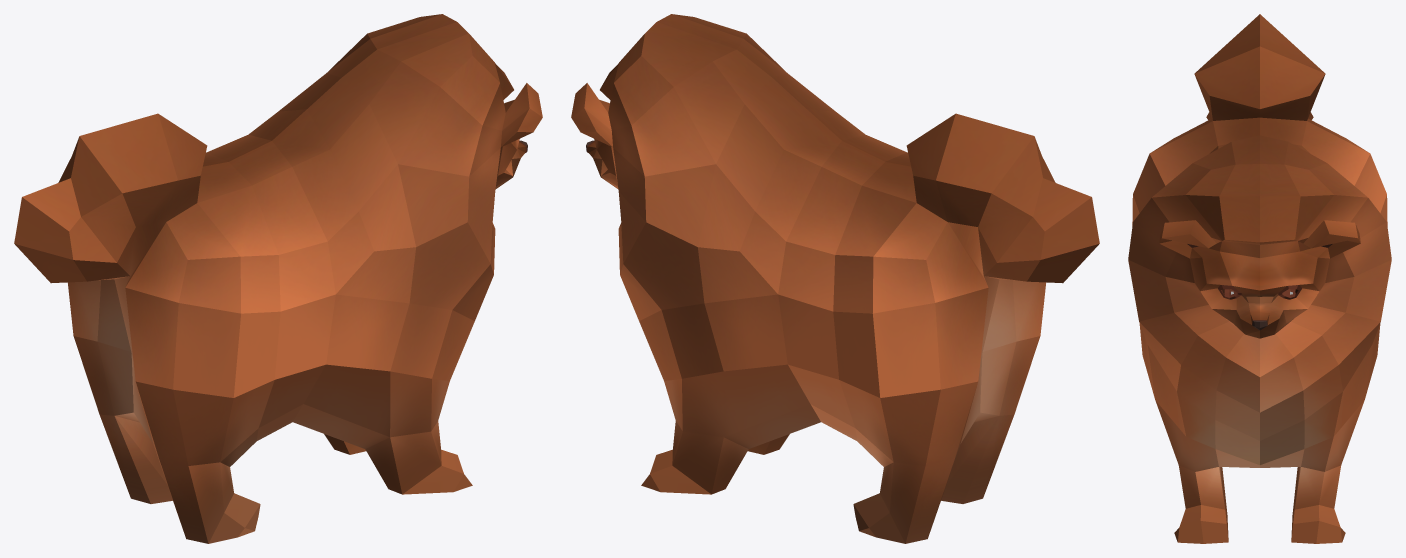
Rendered from Low-poly_hund.glb.
3 views of the same model, side by side, from view 1: azimuth 30°, elevation 25°; view 2: azimuth 150°, elevation 25°; view 3: azimuth 270°, elevation 25° (orthographic). The views are drawn at different scales.
Parts seen in each view (by area): view 1: Doggy; view 2: Doggy; view 3: Doggy.
Part boxes in pixels (left/top/right/bottom): Doggy: left=14, top=14, right=542, bottom=543; Doggy: left=571, top=14, right=1099, bottom=543; Doggy: left=1128, top=14, right=1391, bottom=543.
Bounding box in the file's own units: 0.5155 × 0.4078 × 0.2488.
8 materials, 1 textured.
